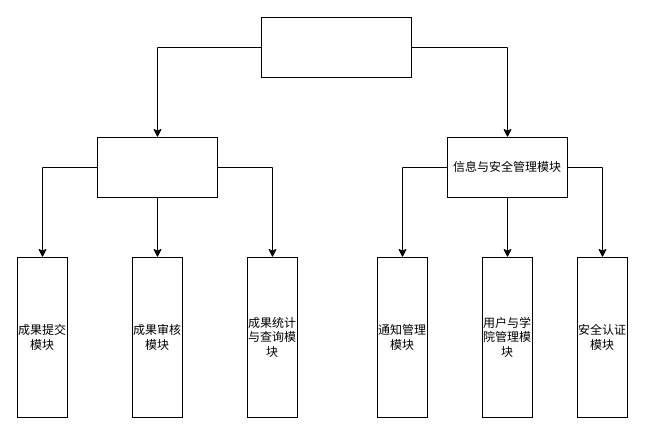
This 645x435 diagram has some shape labels left out. Each missing label, with the box of its shape:
成果管理模块: (96, 136, 218, 198)
高校科研信息管理系统: (260, 16, 412, 78)
